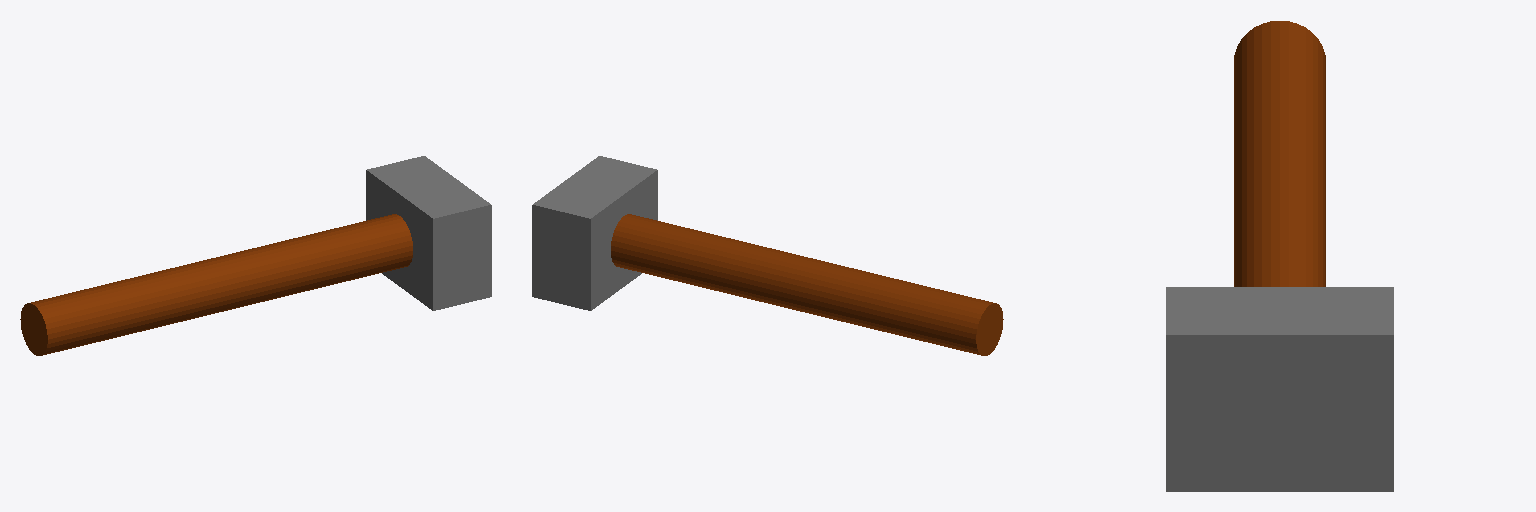
The robot description file, URDF, robot "handle_head":
<?xml version="1.0"?>
<robot name="handle_head">

  <link name="handle_head">
    <!-- Handle -->
    <visual>
              <origin xyz="0 0 0" rpy="0 -1.5707963267948966 0"/>
        <geometry>
          <cylinder length="0.22212022596737413" radius="0.014361903410520252"/>
        </geometry>
        
      <material name="brown">
        <color rgba="0.55 0.27 0.07 1.0"/>
      </material>
    </visual>
    <collision>
              <origin xyz="0 0 0" rpy="0 -1.5707963267948966 0"/>
        <geometry>
          <cylinder length="0.22212022596737413" radius="0.014361903410520252"/>
        </geometry>
        
    </collision>

    <!-- Head -->
    <visual>
              <origin xyz="0.12875187310398664 0 0" rpy="0 0 0"/>
        <geometry>
          <box size="0.035383520240599146 0.07056929848016771 0.05363877323067019"/>
        </geometry>
        
      <material name="gray">
        <color rgba="0.5 0.5 0.5 1.0"/>
      </material>
    </visual>
    <collision>
              <origin xyz="0.12875187310398664 0 0" rpy="0 0 0"/>
        <geometry>
          <box size="0.035383520240599146 0.07056929848016771 0.05363877323067019"/>
        </geometry>
        
    </collision>

    <inertial>
      <origin xyz="0.10080532320896257 0 0" rpy="0 0 0"/>
      <mass value="0.3172022937932101"/>
      <inertia ixx="0.00016959896036159732" iyy="0.0013173352167772834" izz="0.0013608568550437612" ixy="0" ixz="0" iyz="0"/>
    </inertial>
  </link>

</robot>

--- Facts derived from the render (not from the file) ---
Views: 3 orthographic renders of the robot side by side, from view 1: azimuth 30°, elevation 25°; view 2: azimuth 150°, elevation 25°; view 3: azimuth 270°, elevation 25°.
Robot: handle_head — 1 links, 0 joints (none); root link handle_head; default pose: every joint at zero.
Visible links, largest first — view 1: handle_head; view 2: handle_head; view 3: handle_head.
Link boxes in pixels (x1=…): handle_head: x1=20, y1=156, x2=491, y2=355; handle_head: x1=532, y1=156, x2=1003, y2=355; handle_head: x1=1166, y1=21, x2=1393, y2=491.
Bounding box of the posed robot: 0.2575 × 0.0706 × 0.0536 m (x, y, z).
Geometry: primitives only (box / cylinder / sphere), no mesh files.
